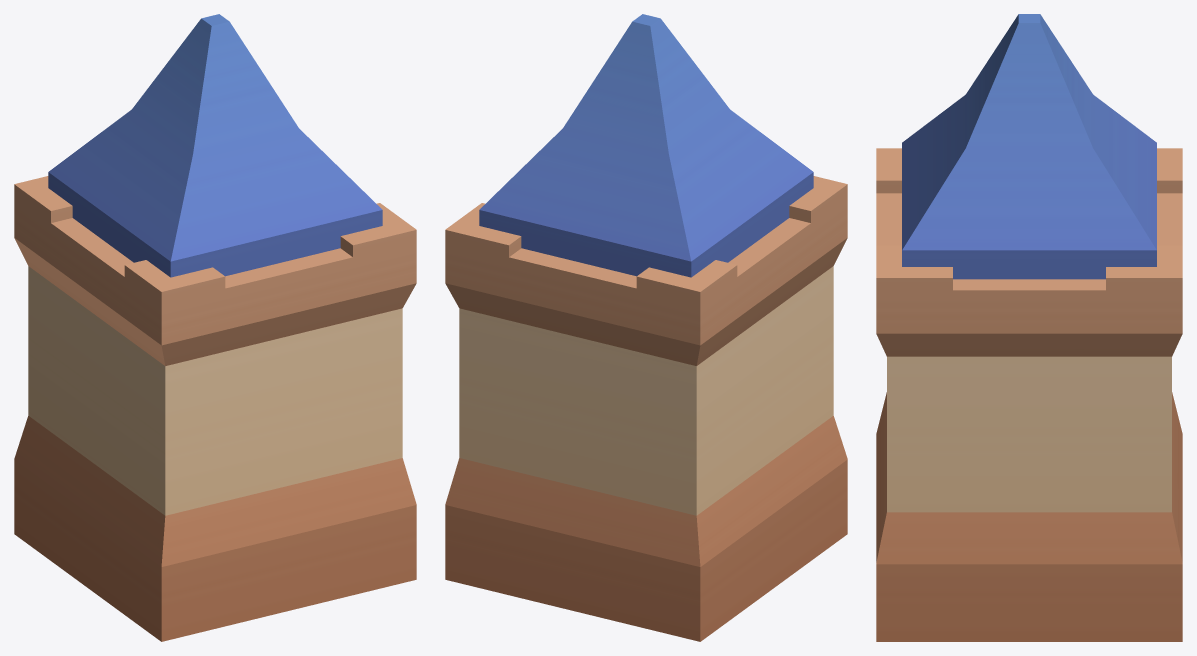
The model's file is tower-square-roof.obj.
3 renders of one model, left to right at view 1: azimuth 30°, elevation 25°; view 2: azimuth 150°, elevation 25°; view 3: azimuth 270°, elevation 25°, orthographic. The views are drawn at different scales.
Parts seen in each view (by area): view 1: tower-square-roof; view 2: tower-square-roof; view 3: tower-square-roof.
Part boxes in pixels (x1=…): tower-square-roof: x1=14, y1=14, x2=416, y2=641; tower-square-roof: x1=445, y1=14, x2=847, y2=641; tower-square-roof: x1=876, y1=14, x2=1182, y2=641.
Bounding box in the file's own units: 1 × 2.01 × 1.
Materials: 1 (1 with a texture image).
